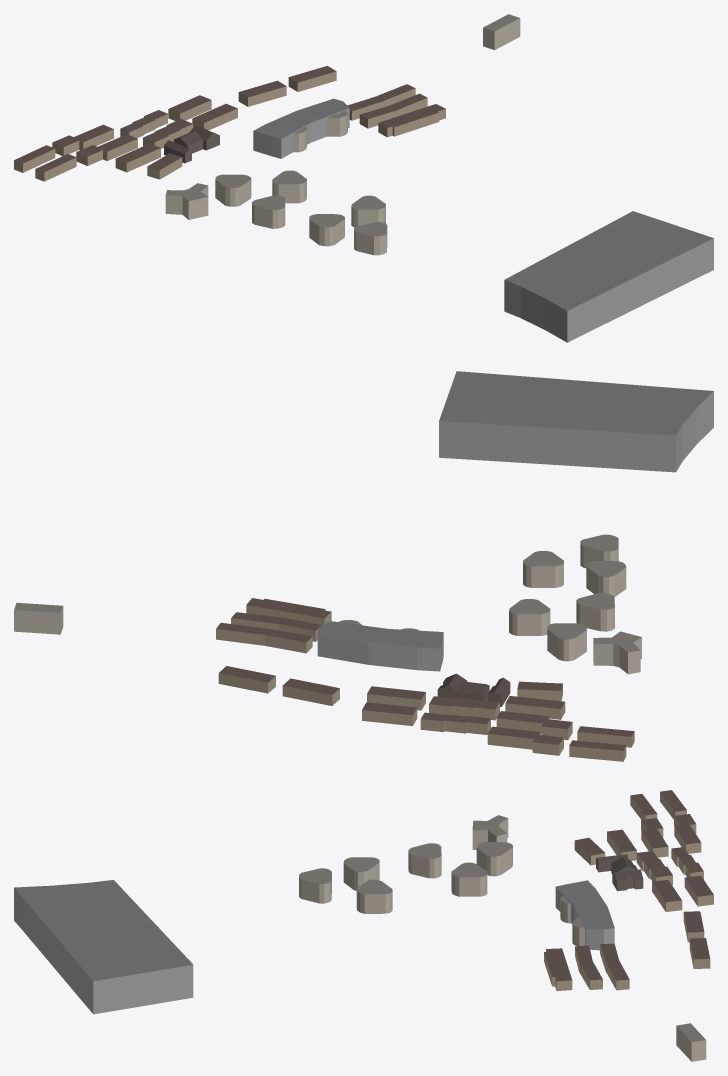
The model's file is tile_3_1.glb.
3 renders of one model, top to bottom at view 1: azimuth 30°, elevation 25°; view 2: azimuth 150°, elevation 25°; view 3: azimuth 270°, elevation 25°, orthographic. The views are drawn at different scales.
Visible parts, largest first — view 1: HP-w756486077, HP-w1122519251, HP-w299010044, HP-w1122519254, HP-w299010046, HP-w299011345, HP-w299010057, HP-w1122519253, HP-w299010050, HP-w299010052, HP-w299011347, HP-w1287260022 (+13 smaller); view 2: HP-w756486077, HP-w1122519251, HP-w1122519252, HP-w299010044, HP-w299011347, HP-w1287260022, HP-w1122519254, HP-w299010056, HP-w299010053, HP-w299010046, HP-w299011345, HP-w299010050 (+13 smaller); view 3: HP-w756486077, HP-w1122519251, HP-w299010053, HP-w299010056, HP-w299010046, HP-w299010050, HP-w299010052, HP-w299010057, HP-w299010044, HP-w1122519254, HP-w1287260022, HP-w1122519252 (+14 smaller).
Boxes of the visible parts, left/top/right/bottom form: HP-w756486077: left=504, top=211, right=713, bottom=342; HP-w1122519251: left=253, top=98, right=349, bottom=158; HP-w299010044: left=165, top=183, right=208, bottom=219; HP-w1122519254: left=378, top=104, right=445, bottom=137; HP-w299010046: left=215, top=174, right=251, bottom=206; HP-w299011345: left=76, top=134, right=137, bottom=165; HP-w299010057: left=309, top=214, right=344, bottom=246; HP-w1122519253: left=359, top=93, right=427, bottom=128; HP-w299010050: left=252, top=195, right=285, bottom=228; HP-w299010052: left=354, top=222, right=387, bottom=255; HP-w299011347: left=52, top=124, right=113, bottom=155; HP-w1287260022: left=483, top=14, right=520, bottom=50; HP-w756486077: left=439, top=371, right=713, bottom=472; HP-w1122519251: left=317, top=621, right=443, bottom=671; HP-w1122519252: left=216, top=622, right=312, bottom=653; HP-w299010044: left=593, top=631, right=641, bottom=674; HP-w299011347: left=487, top=726, right=563, bottom=755; HP-w1287260022: left=14, top=602, right=63, bottom=634; HP-w1122519254: left=246, top=598, right=331, bottom=625; HP-w299010056: left=523, top=550, right=563, bottom=587; HP-w299010053: left=509, top=599, right=550, bottom=635; HP-w299010046: left=547, top=623, right=586, bottom=661; HP-w299011345: left=496, top=711, right=572, bottom=740; HP-w299010050: left=576, top=593, right=614, bottom=631; HP-w756486077: left=14, top=880, right=193, bottom=1014; HP-w1122519251: left=555, top=880, right=614, bottom=950; HP-w299010053: left=451, top=862, right=487, bottom=896; HP-w299010056: left=356, top=879, right=392, bottom=913; HP-w299010046: left=476, top=842, right=512, bottom=876; HP-w299010050: left=408, top=843, right=441, bottom=878; HP-w299010052: left=299, top=868, right=331, bottom=903; HP-w299010057: left=343, top=857, right=379, bottom=890; HP-w299010044: left=472, top=815, right=508, bottom=849; HP-w1122519254: left=544, top=948, right=572, bottom=991; HP-w1287260022: left=676, top=1023, right=706, bottom=1061; HP-w1122519252: left=600, top=943, right=629, bottom=990.
Bounding box in the file's own units: 517 × 30.4 × 583.
